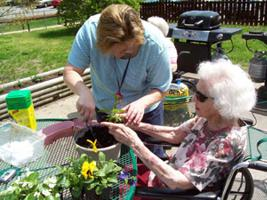person: (105, 57, 259, 200)
